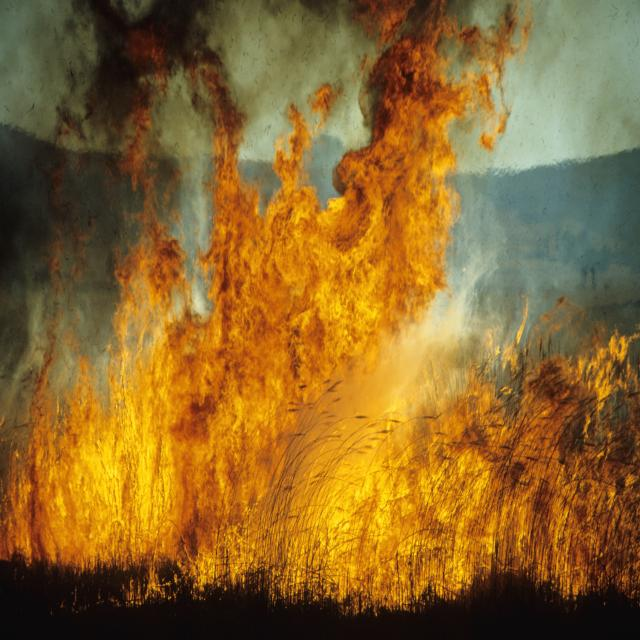Fire: (5, 55, 638, 600)
